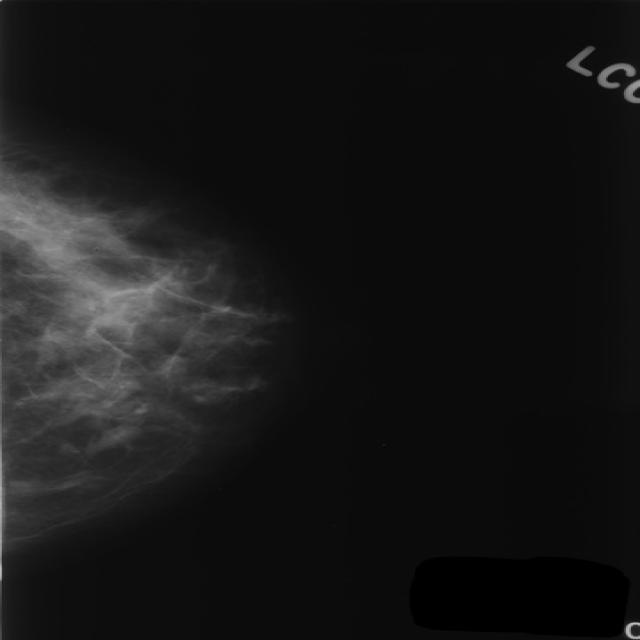tumour: (90, 422, 138, 450)
